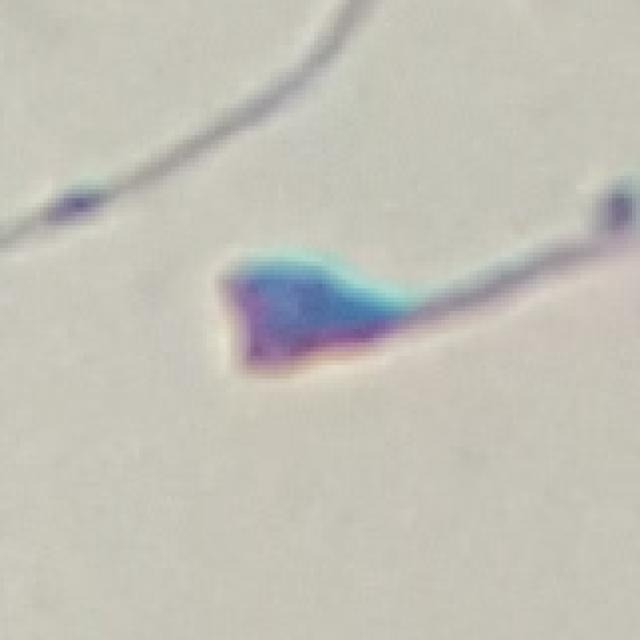abnormal sperm: (218, 250, 533, 381)
